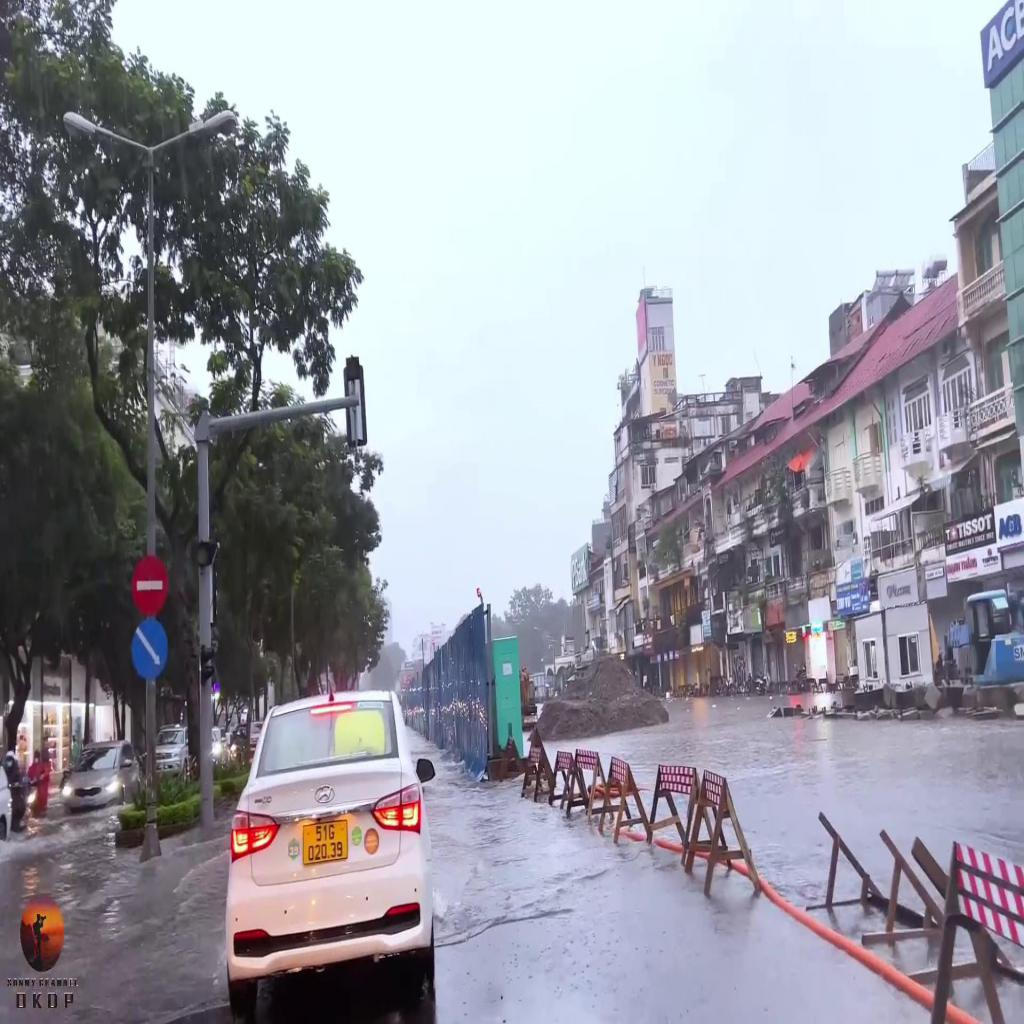cam_xe_di_nguoc_chieu: (129, 549, 170, 613)
huong_phai_di_vuot_chuong_ngai_vat_phai: (129, 614, 171, 682)
